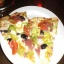olives: (38, 42, 48, 51), (18, 33, 26, 41), (39, 30, 46, 34)
pizza: (5, 13, 58, 54)
